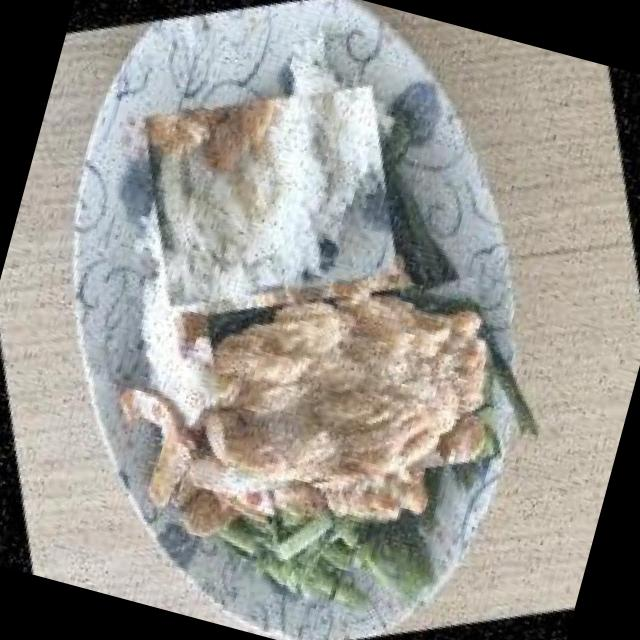fried_chicken: (170, 202, 536, 570)
rice: (97, 31, 445, 363)
water_spinach: (208, 458, 444, 640)
